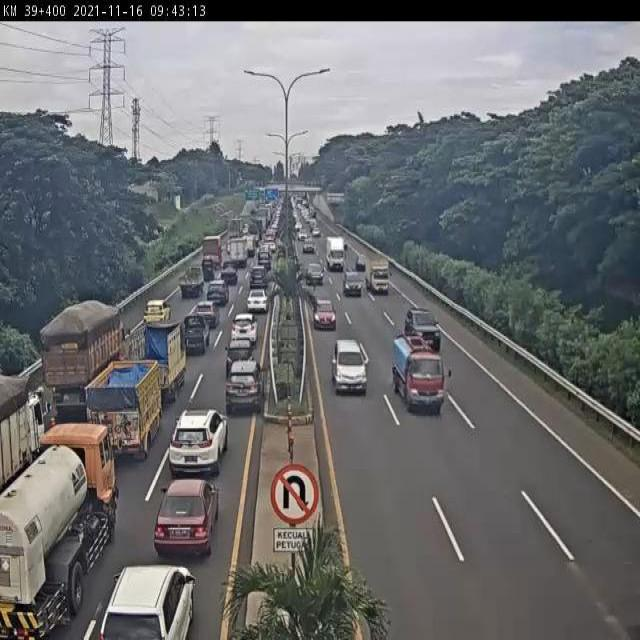car: (97, 562, 198, 640), (152, 476, 219, 560), (166, 405, 230, 476), (223, 360, 265, 415), (330, 337, 368, 396), (402, 305, 444, 355), (177, 315, 211, 357), (225, 339, 255, 377), (311, 297, 338, 331), (230, 312, 259, 343), (194, 300, 220, 328), (143, 300, 172, 325), (246, 287, 269, 313), (341, 271, 364, 296), (207, 280, 228, 307), (305, 262, 325, 286), (221, 259, 239, 285), (248, 264, 267, 287)
small truck: (390, 336, 451, 415), (364, 252, 390, 295), (178, 265, 205, 299)
truck-l-: (0, 417, 124, 640), (34, 300, 126, 423), (0, 369, 51, 491)
truck-m-: (87, 360, 163, 460), (125, 321, 188, 403)
